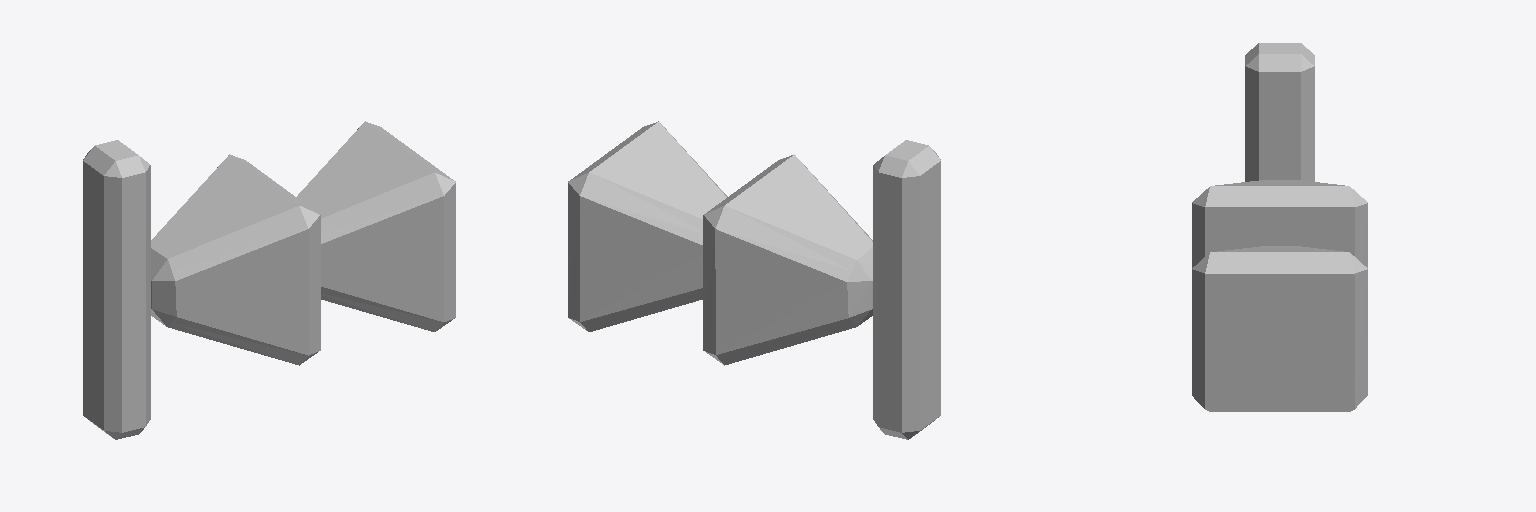
File: Boton 2.obj
The picture shows the model from 3 angles: view 1: azimuth 30°, elevation 25°; view 2: azimuth 150°, elevation 25°; view 3: azimuth 270°, elevation 25°; orthographic projection.
Visible parts, largest first — view 1: pasar_2:pCube6; view 2: pasar_2:pCube6; view 3: pasar_2:pCube6.
Boxes of the visible parts, x1,y1,x2,y2 form: pasar_2:pCube6: [83, 121, 455, 439]; pasar_2:pCube6: [568, 121, 940, 439]; pasar_2:pCube6: [1192, 43, 1367, 411].
Bounding box in the file's own units: 1.53 × 1.25 × 0.7179.